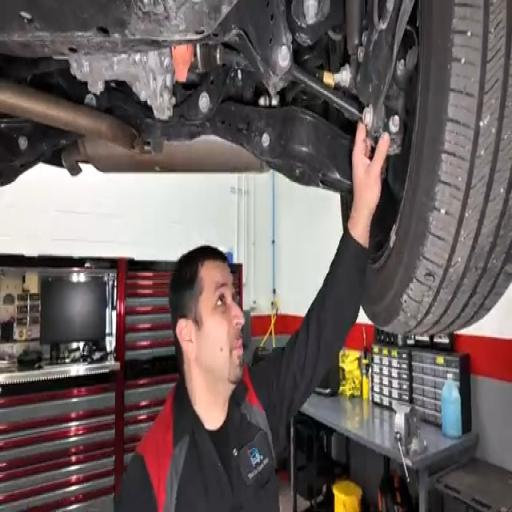tire: (363, 0, 511, 334)
